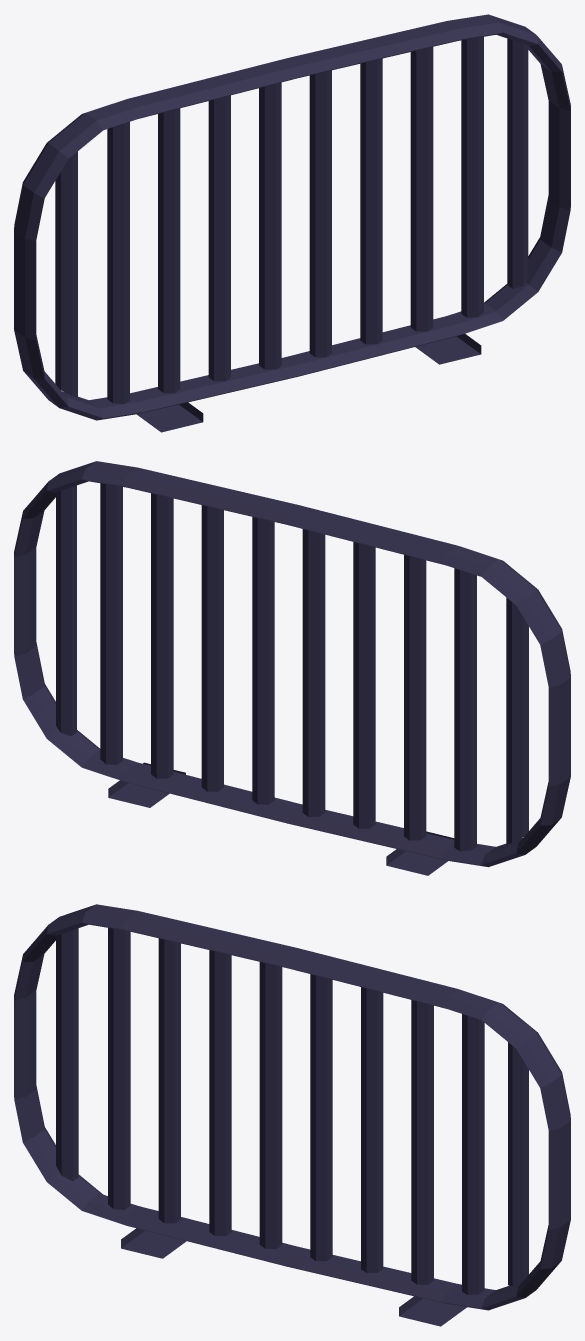
File: Barrier.fbx
3 renders of one model, top to bottom at view 1: azimuth 30°, elevation 25°; view 2: azimuth 150°, elevation 25°; view 3: azimuth 330°, elevation 25°, orthographic.
Parts seen in each view (by area): view 1: Barrier; view 2: Barrier; view 3: Barrier.
Boxes of the visible parts, x1,y1,x2,y2 form: Barrier: (14,14,570,432); Barrier: (14,461,570,875); Barrier: (14,904,570,1326).
Size of the model in its own units: 182 by 20.77 by 102.
